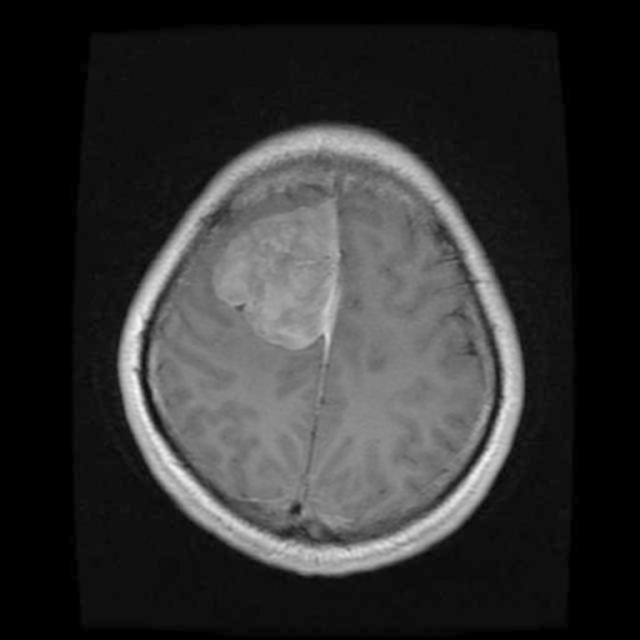meningioma tumor: (212, 206, 350, 368)
